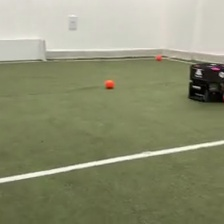ball: (103, 77, 116, 89), (154, 51, 163, 61)
goal: (1, 36, 48, 63)
robot: (186, 60, 224, 104)
